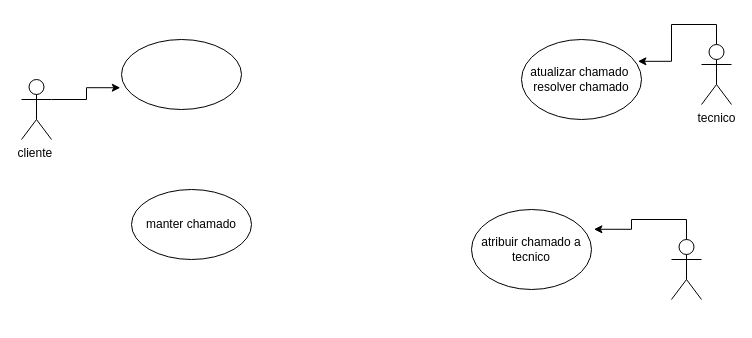
Image size: 752x338. Some labels were removed from this diagram. Each missing label, with the centre of its shape:
"abrir chamodo" goes at [181,74].
"gestor" goes at [686,269].
